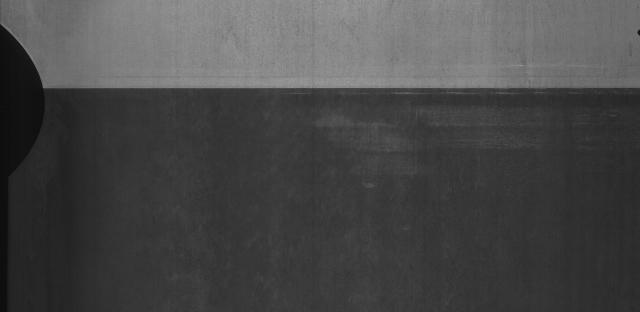punching_hole: (636, 26, 640, 43)
welding_line: (27, 71, 640, 101)
